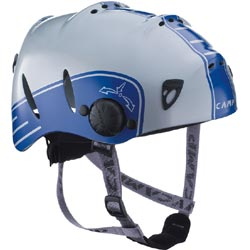helmet: (12, 6, 234, 146)
